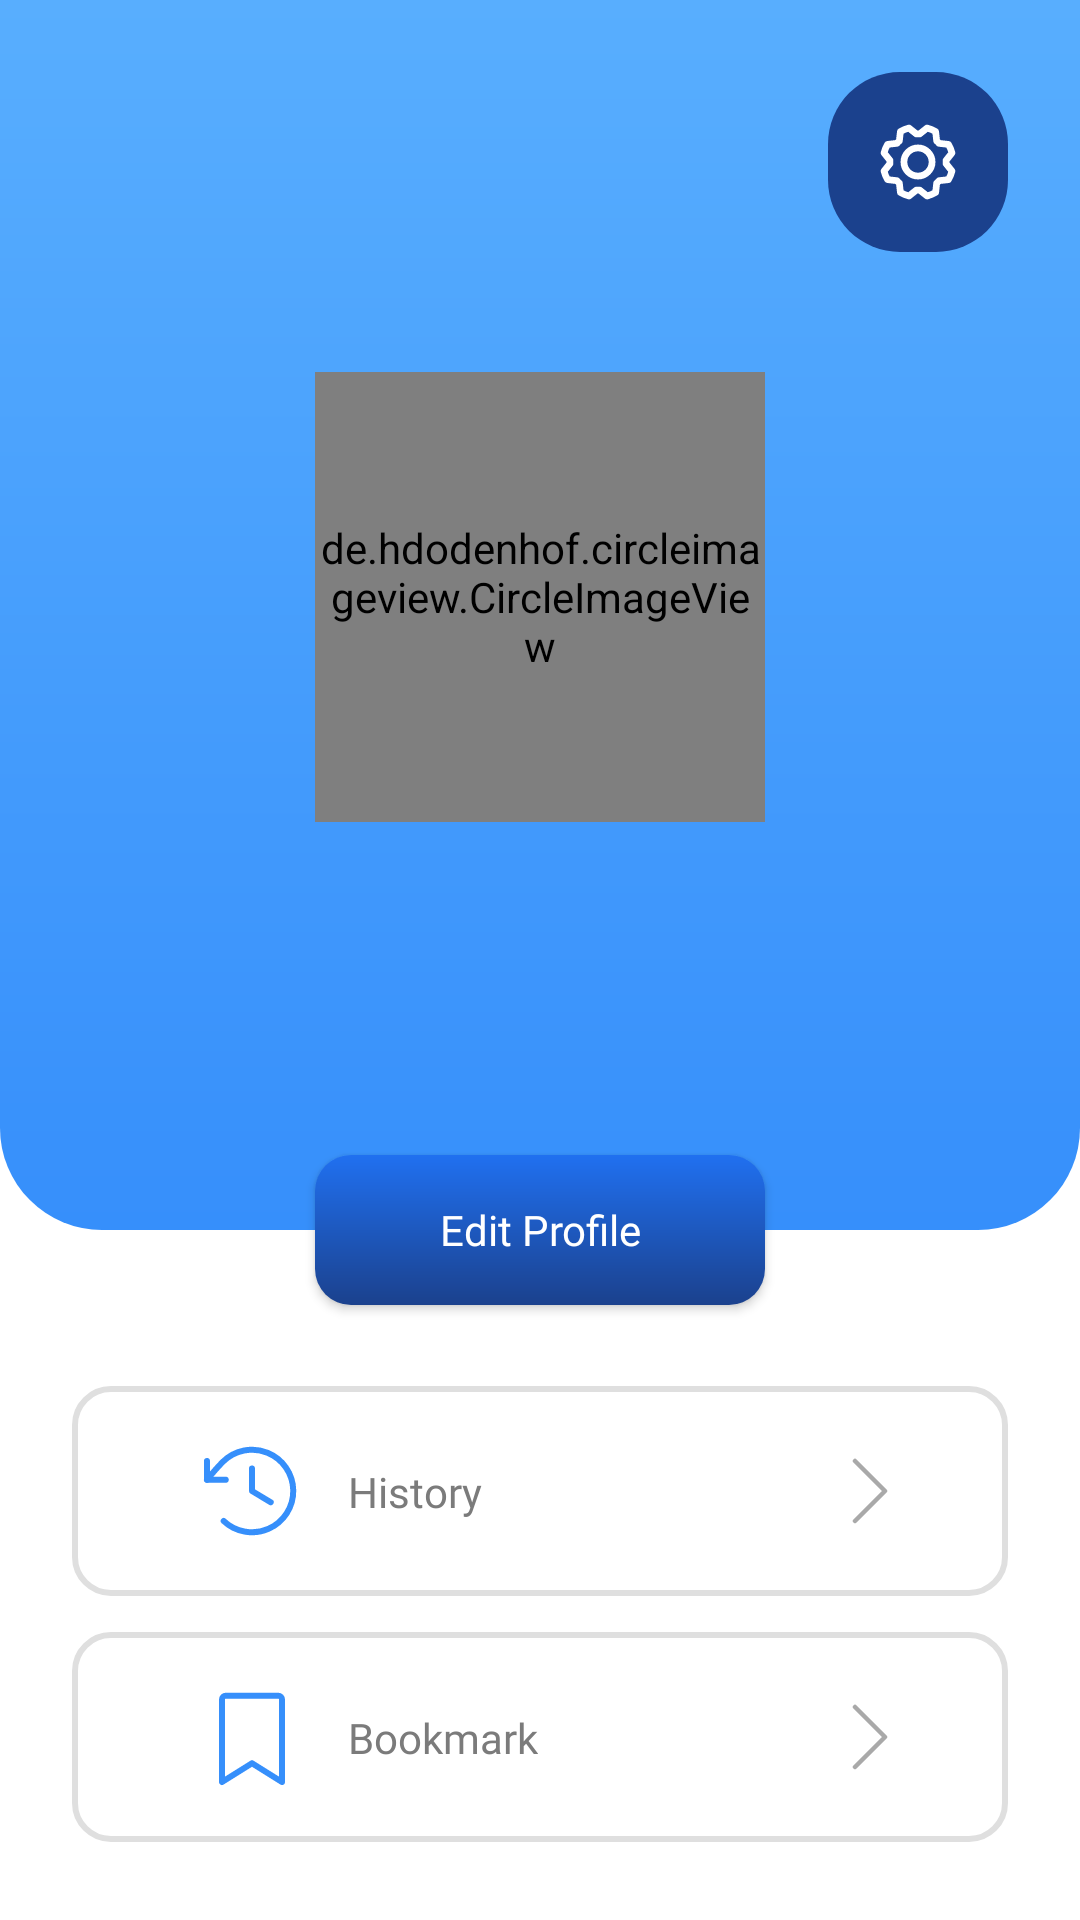

Where icons sit on this 1080x1920 app screen, as Rect(x1, y1, x2, y2):
arrow right: Rect(853, 1458, 887, 1523), Rect(853, 1704, 887, 1769)
setting: Rect(828, 72, 1008, 252)
